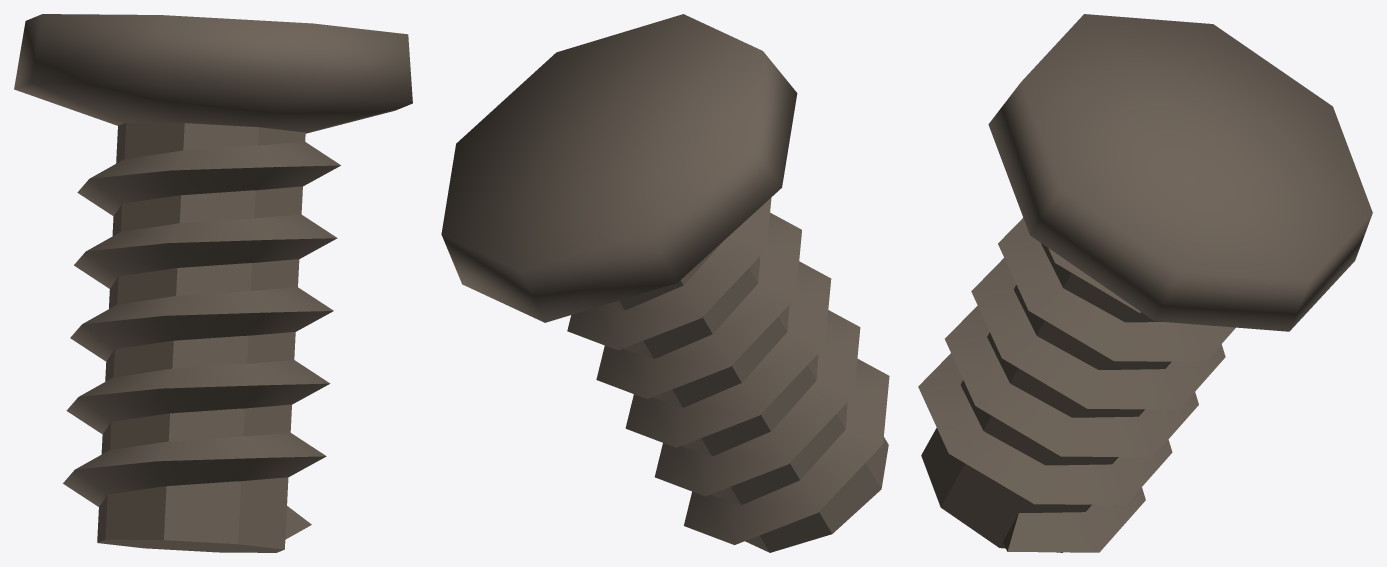
The model's file is bolt_0202sat.fbx.
3 views of the same model, side by side, from view 1: azimuth 30°, elevation 25°; view 2: azimuth 150°, elevation 25°; view 3: azimuth 270°, elevation 25° (orthographic). The views are drawn at different scales.
Parts seen in each view (by area): view 1: Bolt; view 2: Bolt; view 3: Bolt.
Boxes of the visible parts, box(x1,y1,x2,y2) form: Bolt: box(14, 14, 412, 552); Bolt: box(441, 14, 889, 552); Bolt: box(918, 14, 1372, 552).
Bounding box in the file's own units: 4.92 × 6.54 × 5.21.
